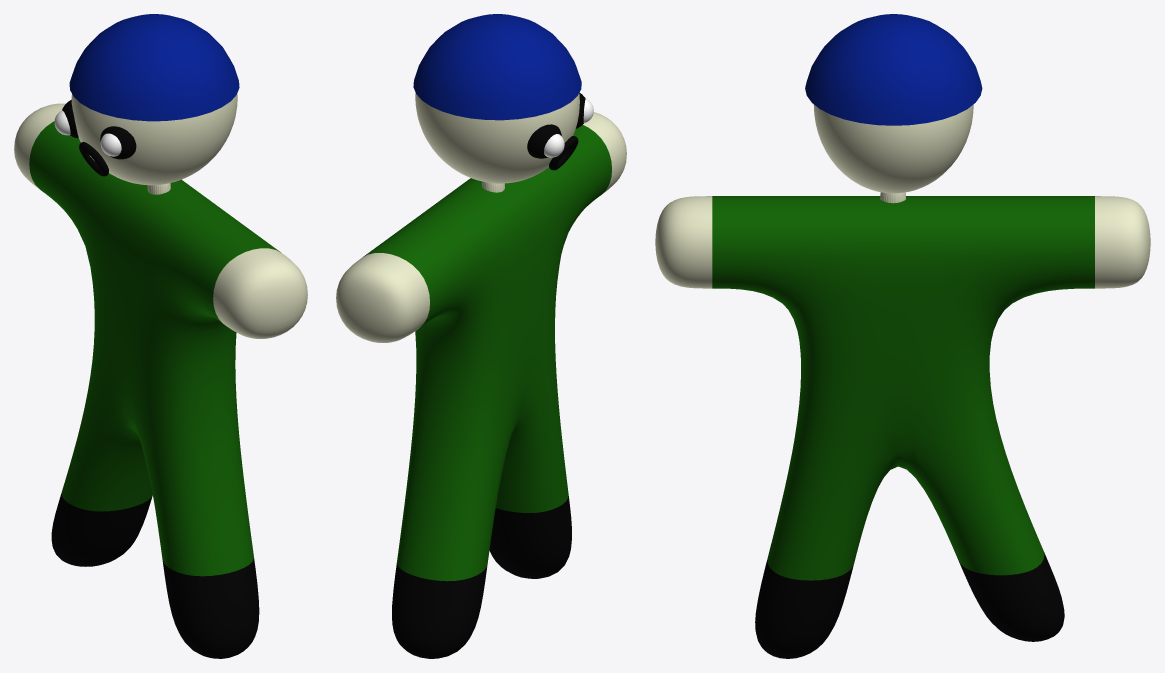
Rendered from Battle Plan character blue soldier.fbx.
3 views of the same model, side by side, from view 1: azimuth 30°, elevation 25°; view 2: azimuth 150°, elevation 25°; view 3: azimuth 270°, elevation 25° (orthographic). The views are drawn at different scales.
Parts seen in each view (by area): view 1: Cube, Sphere.001, Sphere, Sphere.003, Torus; view 2: Cube, Sphere.001, Sphere, Sphere.002, Torus; view 3: Cube, Sphere.001, Sphere.
Part boxes in pixels (x1,y1,x2,y2): Cube: [14, 103, 307, 658]; Sphere.001: [69, 14, 239, 121]; Sphere: [71, 94, 237, 185]; Sphere.003: [100, 126, 136, 159]; Torus: [79, 142, 108, 176]; Cube: [336, 112, 626, 658]; Sphere.001: [413, 14, 581, 120]; Sphere: [415, 93, 579, 183]; Sphere.002: [527, 124, 561, 158]; Torus: [549, 136, 578, 170]; Cube: [655, 196, 1150, 658]; Sphere.001: [805, 14, 982, 125]; Sphere: [813, 104, 973, 193].
Bounding box in the file's own units: 209 × 767 × 552.
